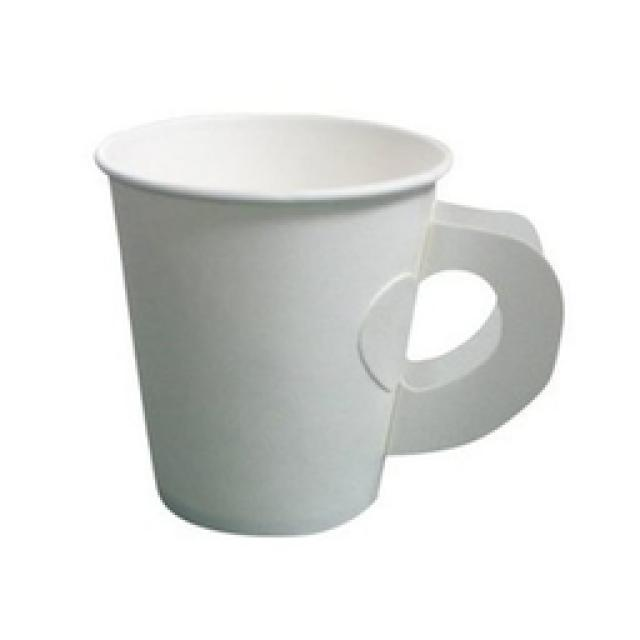paper_cups: (88, 109, 560, 537)
